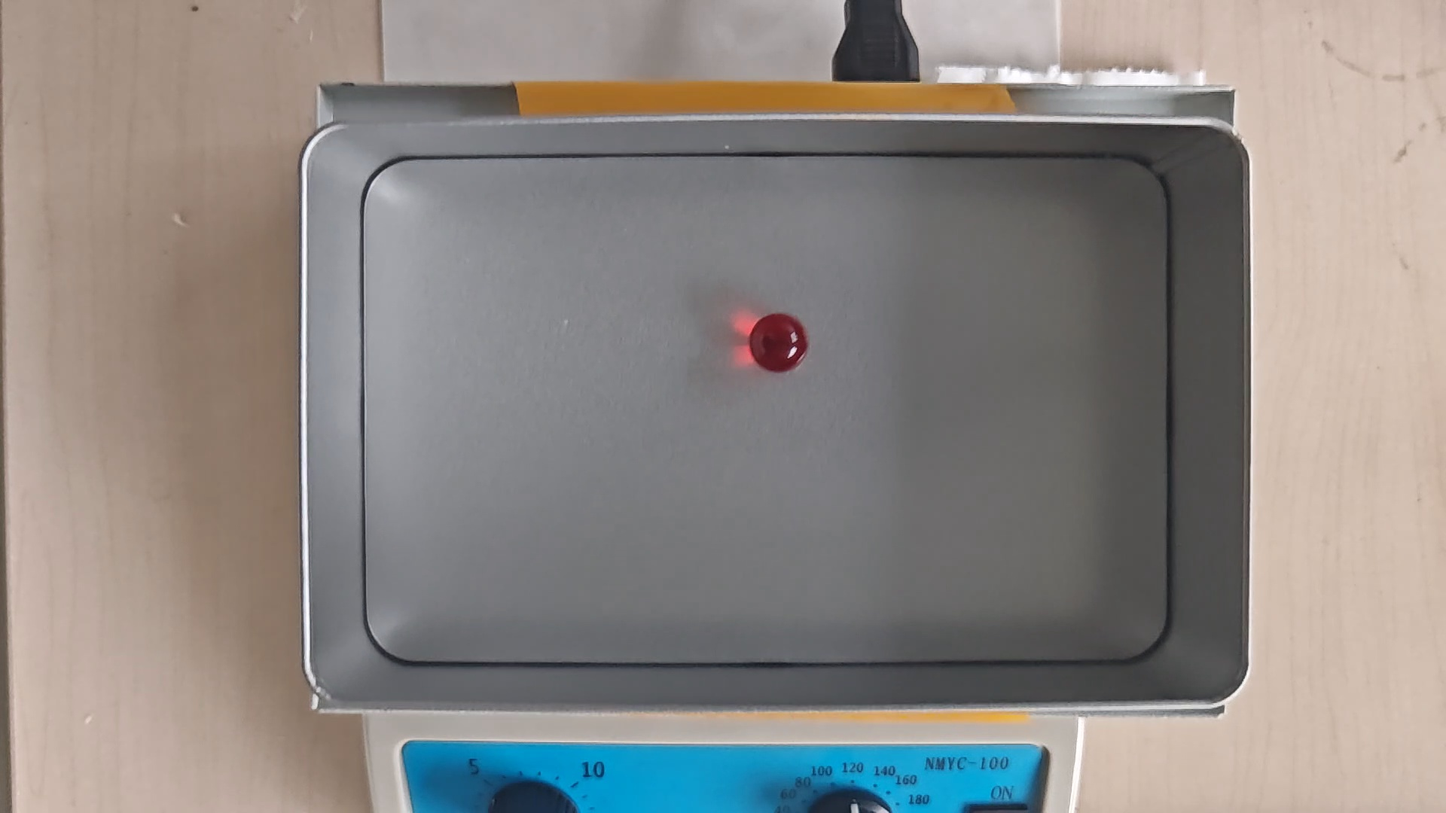ball: (751, 313, 810, 372)
container: (364, 154, 1169, 663)
